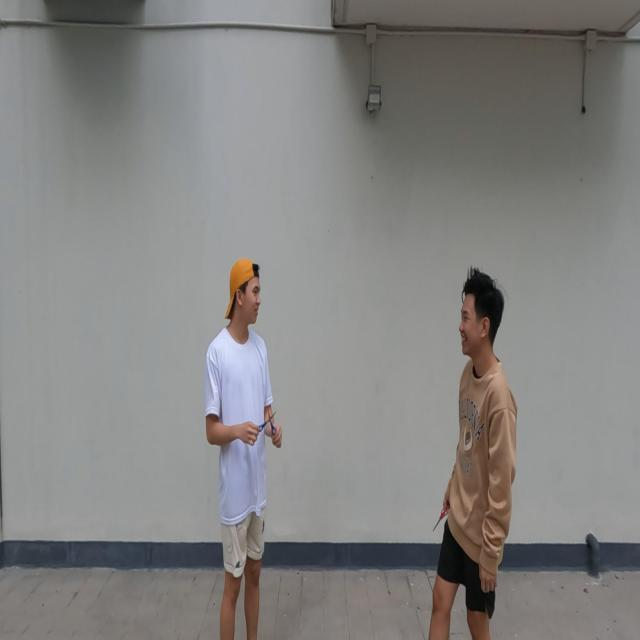scissor: (256, 408, 279, 438), (432, 506, 450, 534)
